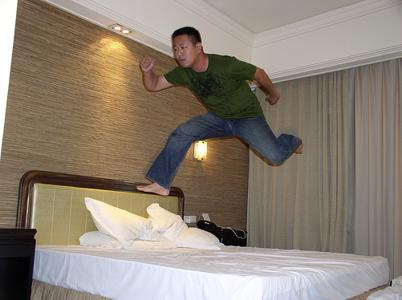person: (138, 23, 305, 197)
